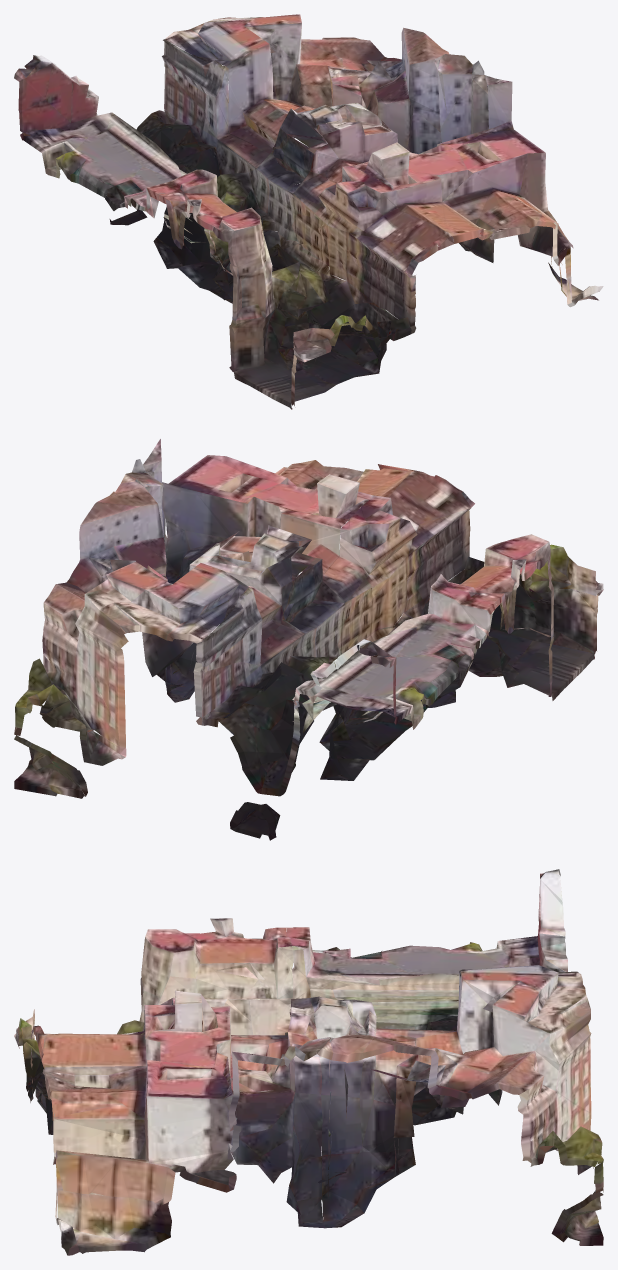
The picture shows the model from 3 angles, top to bottom: view 1: azimuth 30°, elevation 25°; view 2: azimuth 150°, elevation 25°; view 3: azimuth 270°, elevation 25°; orthographic projection. The views are drawn at different scales.
Parts seen in each view (by area): view 1: Mesh_0; view 2: Mesh_0; view 3: Mesh_0.
Boxes of the visible parts, left/top/right/bottom form: Mesh_0: left=14, top=14, right=603, bottom=409; Mesh_0: left=14, top=439, right=603, bottom=840; Mesh_0: left=14, top=869, right=603, bottom=1255.
Bounding box in the file's own units: 66.56 × 33.8 × 82.56.
Materials: 1 (1 with a texture image).
